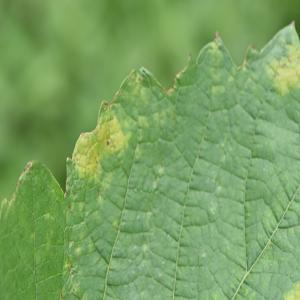Folha: (0, 0, 300, 300)
Fungo: (69, 100, 128, 172), (266, 41, 300, 92), (10, 160, 33, 204), (282, 279, 299, 299), (214, 30, 224, 44), (67, 261, 74, 277), (240, 56, 248, 70), (250, 42, 255, 53), (106, 140, 110, 146)
